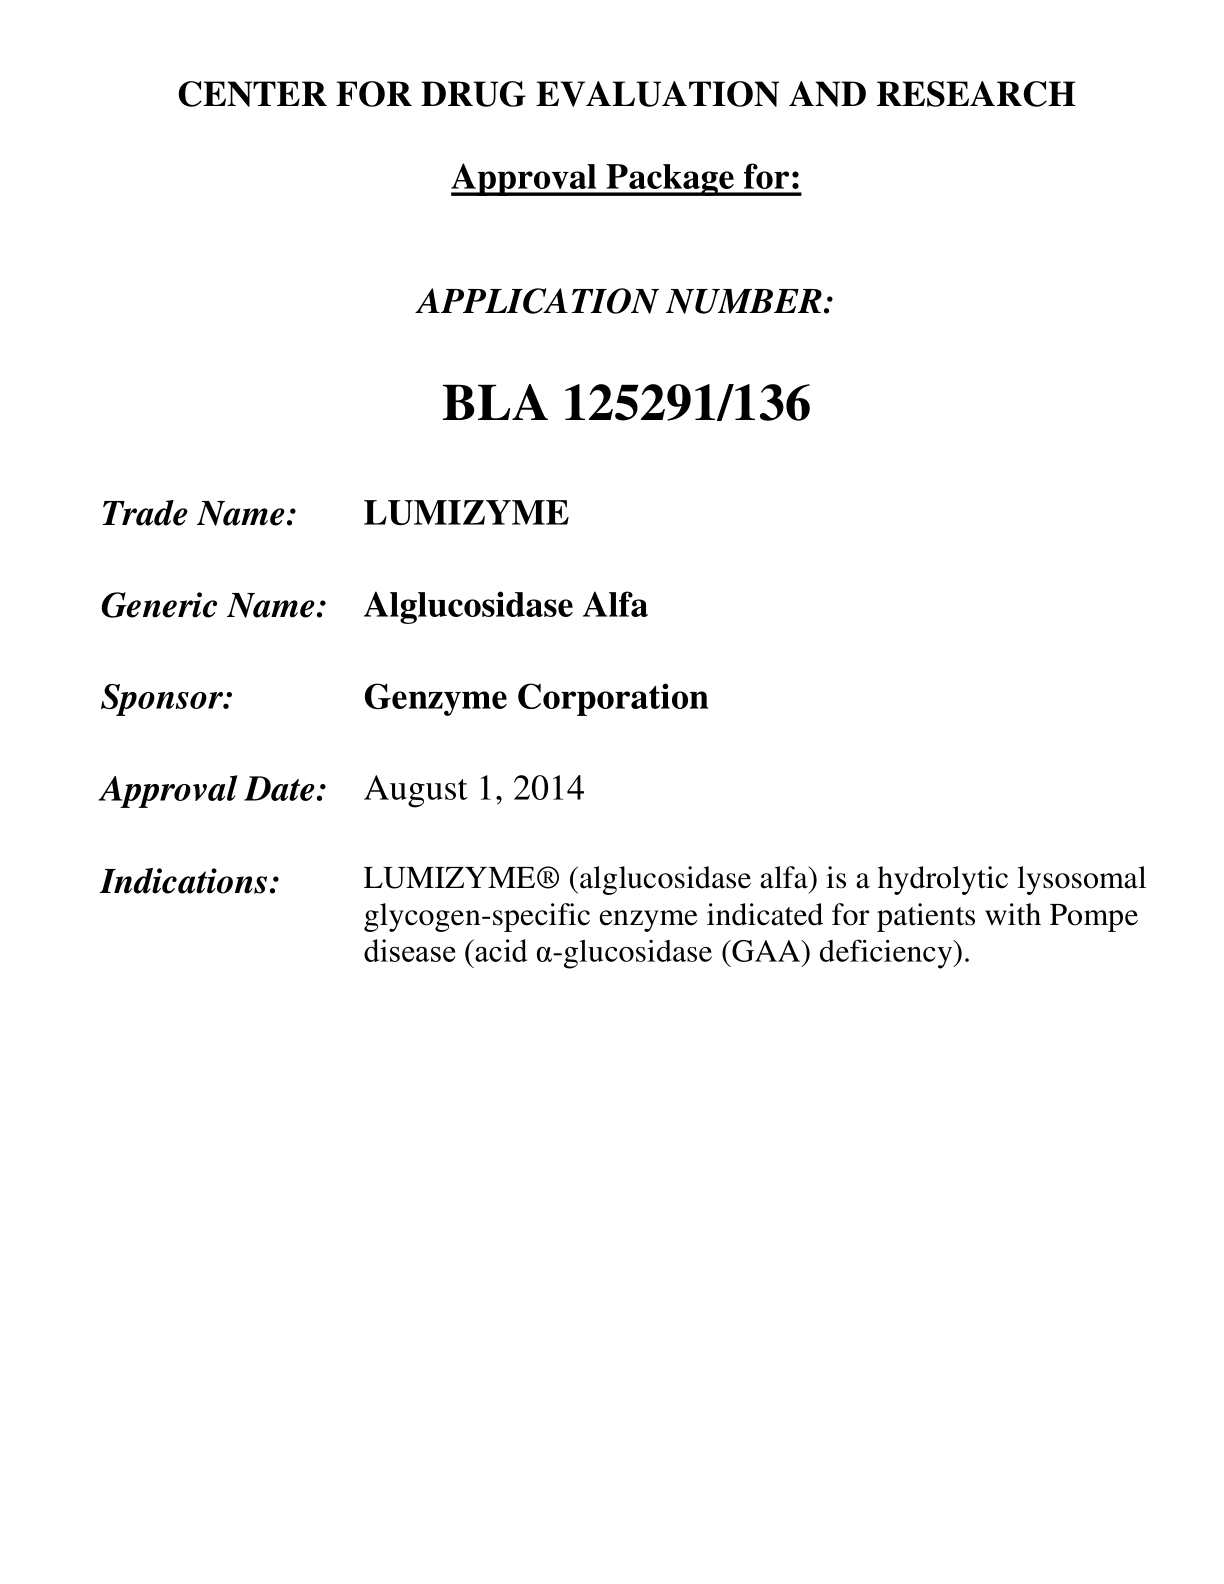nolines: (96, 490, 1149, 967)
